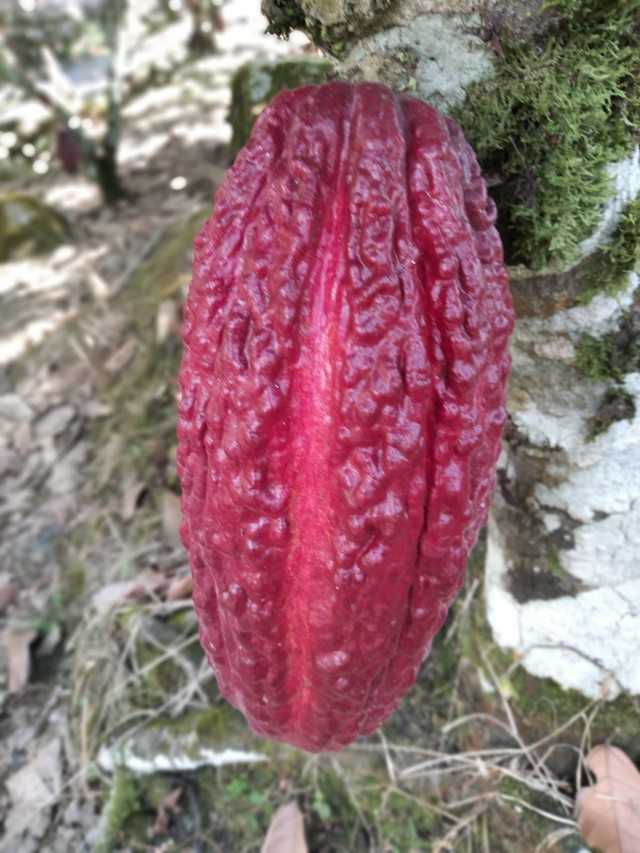Health: (168, 61, 520, 767)
